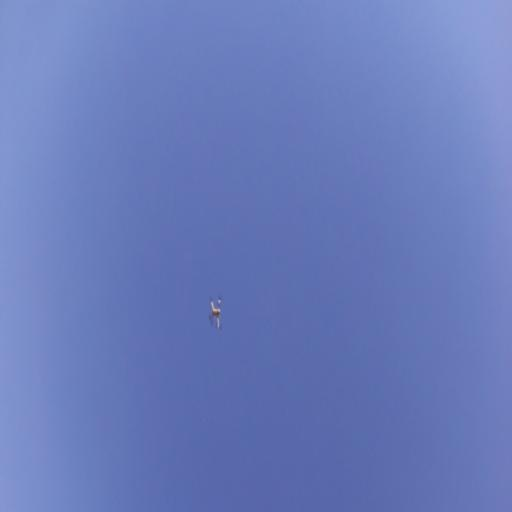drones: (208, 293, 223, 333)
